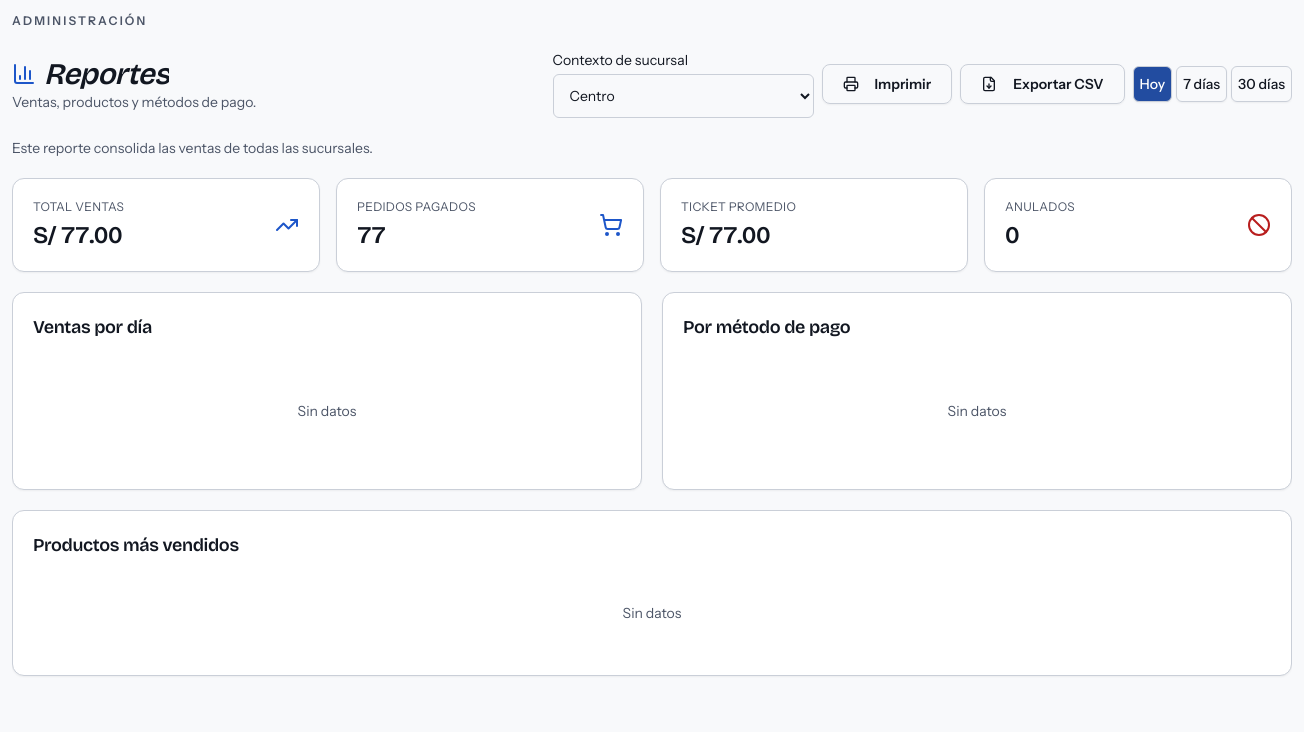
Test: scoped 404 fails closed and never falls back to consolidated sales
Select "Centro" in the dropdown with test id "reportes-branch-context" at {"x": 683, "y": 96}, box [553,74,814,118]
Select "Centro" in the dropdown with test id "reportes-branch-context" at {"x": 683, "y": 96}, box [553,74,814,118]
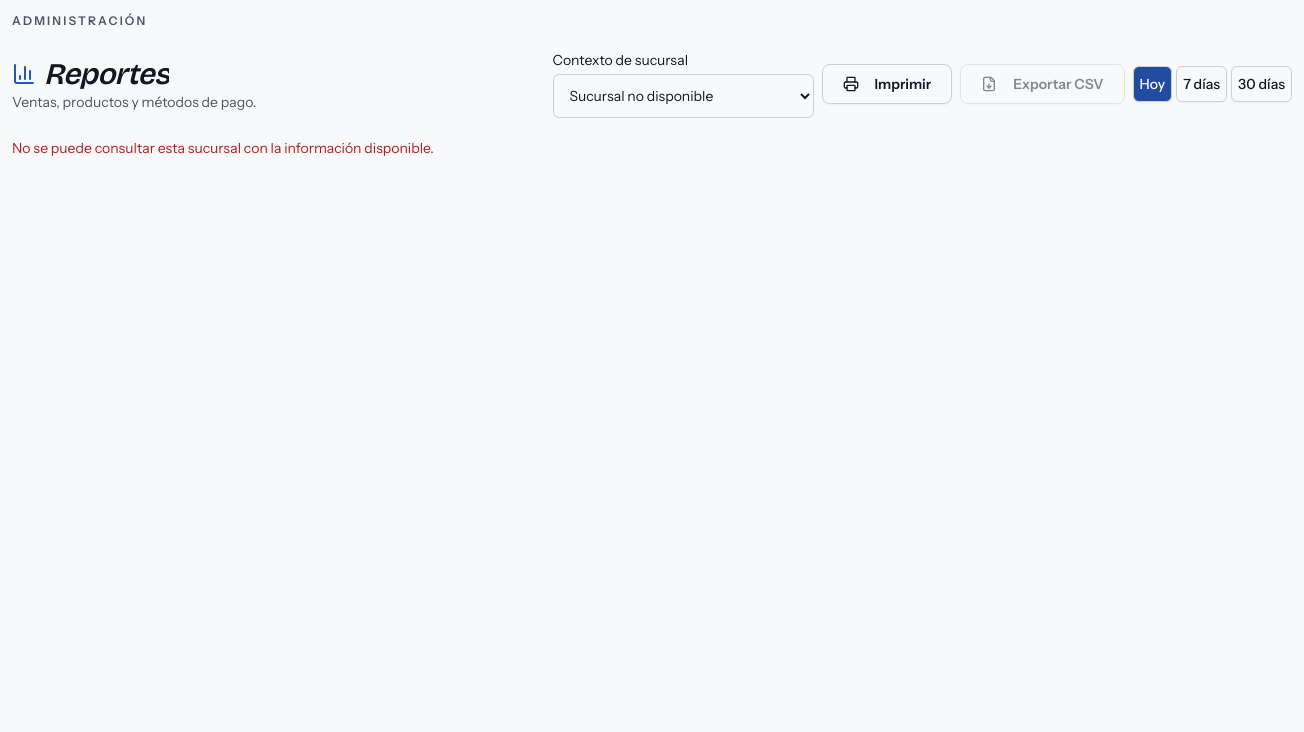
Now the text "No se puede consultar esta sucursal" is shown, box [12,139,434,157]
Now the text "77" is gone
